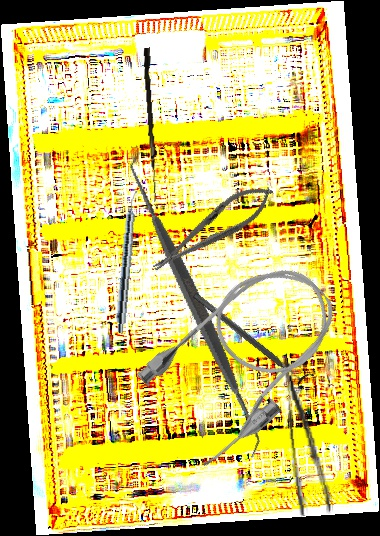Cannula: (126, 243, 363, 475)
Dressing Forceps: (281, 359, 334, 517)
Fixation Ring: (187, 286, 315, 392)
Handpiece: (114, 189, 141, 334)
Hook Surgical: (140, 47, 164, 202)
Needle Holder: (144, 174, 281, 283)
Spatula Surgical: (39, 150, 352, 461)
